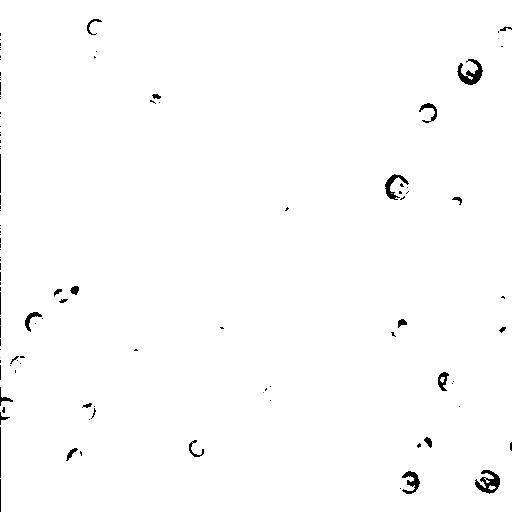micro-algae: (16, 255, 67, 305), (97, 41, 147, 91), (295, 1, 344, 45), (97, 422, 131, 458), (155, 176, 189, 211), (383, 17, 415, 51), (387, 308, 419, 342), (259, 383, 291, 411), (57, 276, 89, 301), (383, 173, 411, 201), (456, 58, 483, 87), (486, 317, 511, 347), (473, 469, 501, 493), (63, 447, 87, 474), (123, 341, 149, 364), (8, 354, 30, 381), (87, 42, 111, 66), (279, 199, 303, 223), (396, 470, 421, 493), (73, 401, 97, 423), (417, 102, 439, 125), (435, 372, 458, 393), (1, 395, 19, 421), (493, 24, 511, 49), (187, 439, 207, 460), (25, 312, 44, 334), (86, 18, 104, 36), (52, 288, 71, 305), (495, 293, 511, 313), (416, 435, 432, 451), (448, 195, 463, 210)
